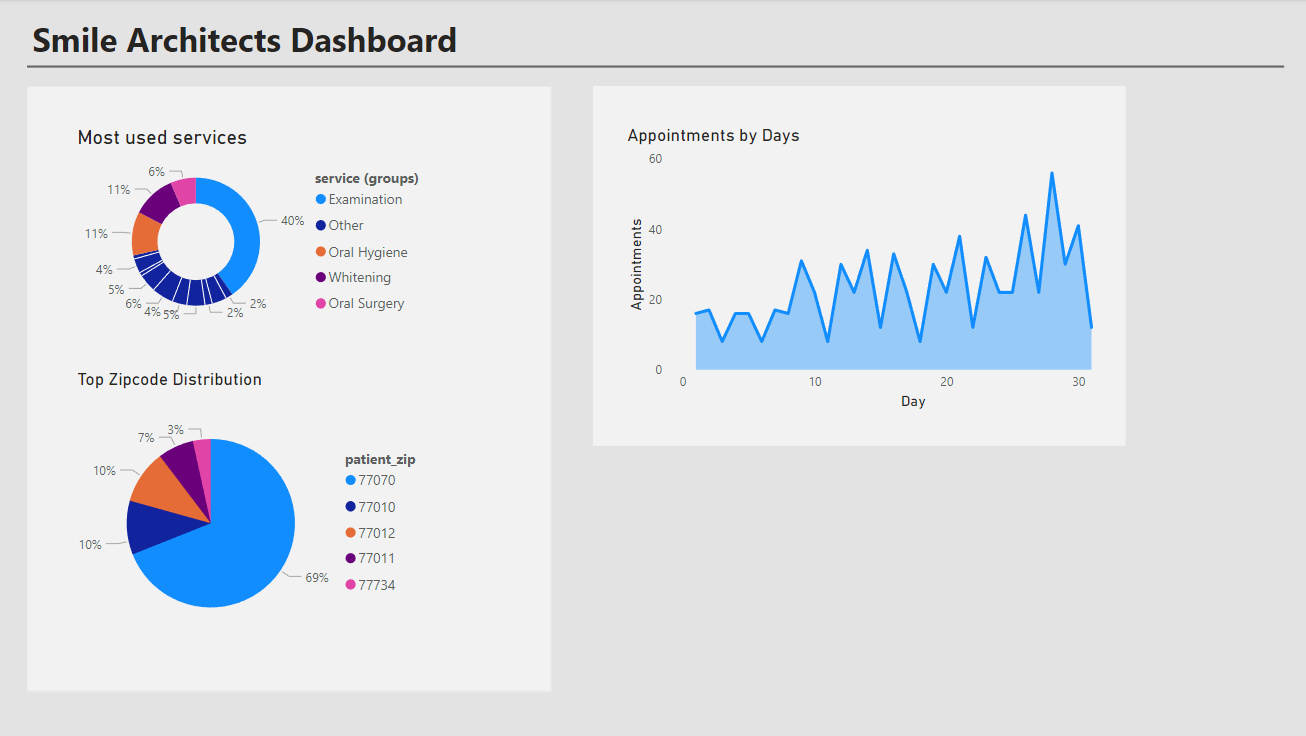

Layout of this report page (visuals, bound fields, positions):
{"tool":"powerbi","page":{"name":"Smile Architects ","canvas":[1280,720],"ordinal":0},"visuals":[{"type":"shape","box":[578.6,84.3,518,350.3],"z":0},{"type":"shape","box":[28.1,84.3,510.1,589.2],"z":1000},{"type":"shape","box":[28.2,46.7,1222.6,37.9],"z":2000},{"type":"donutChart","title":"Most used services","fields":{"Y":["CountNonNull(SmileArchitectsDB appt_sign_up_forms.service)"],"Series":["SmileArchitectsDB appt_sign_up_forms.service"],"Category":["SmileArchitectsDB appt_sign_up_forms.service (groups)"]},"box":[72,122.9,357.4,205.5],"z":3000},{"type":"areaChart","title":"Appointments by Days","fields":{"Category":["SmileArchitectsDB appointments.appt_date.Variation.Date Hierarchy.Day"],"Y":["Count(SmileArchitectsDB appointments.appt_id)"]},"box":[606.7,122.9,523.3,281],"z":4000},{"type":"pieChart","title":"Top Zipcode Distribution","fields":{"Category":["SmileArchitectsDB appt_sign_up_forms.patient_zip"],"Y":["CountNonNull(SmileArchitectsDB appt_sign_up_forms.patient_zip)"]},"box":[72,360,357.4,281],"z":5000},{"type":"textbox","box":[28.2,11.7,484.4,54.5],"z":6000}]}

Visuals, with their boxes in screenshot pixels (x1, y1, x2, y2), scaled from the page's 1280x720 canvas onto the 1306x736 screenshot:
shape: x1=590 y1=86 x2=1119 y2=444
shape: x1=29 y1=86 x2=549 y2=688
shape: x1=29 y1=48 x2=1276 y2=86
"Most used services" donutChart: x1=73 y1=126 x2=438 y2=336
"Appointments by Days" areaChart: x1=619 y1=126 x2=1153 y2=413
"Top Zipcode Distribution" pieChart: x1=73 y1=368 x2=438 y2=655
textbox: x1=29 y1=12 x2=523 y2=68
